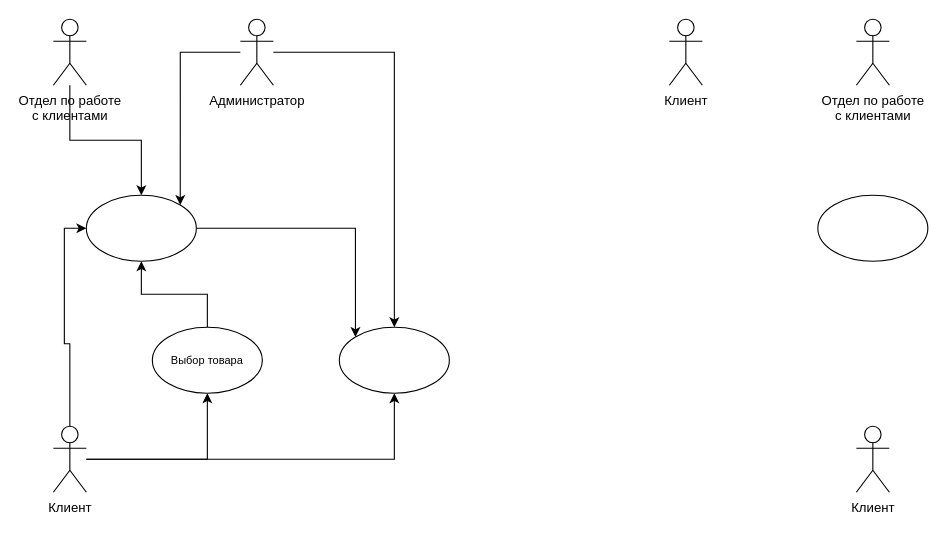
The diagram is 947 pixels wide and 535 high, and some of its shapes have lost their labels. The box of each missing label's shape, as (x1, y1, x2, y2) in pixels:
Идентификация: (338, 326, 449, 393)
Предлагание товара: (817, 194, 928, 261)
Составление заказа: (85, 194, 196, 261)
